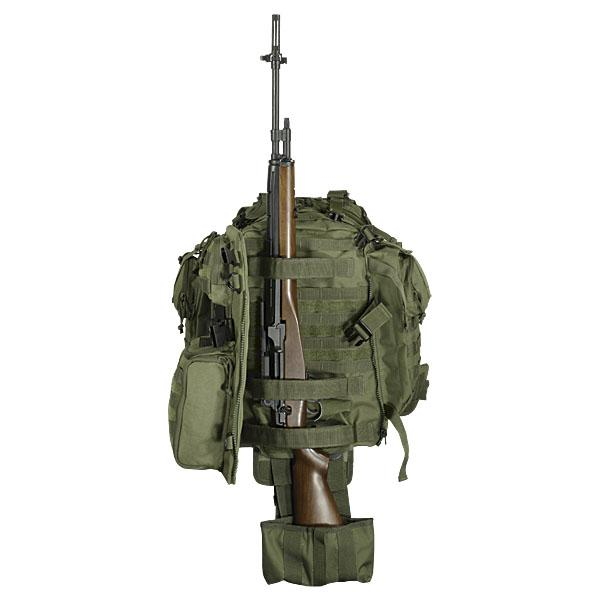rifle: (263, 0, 337, 531)
